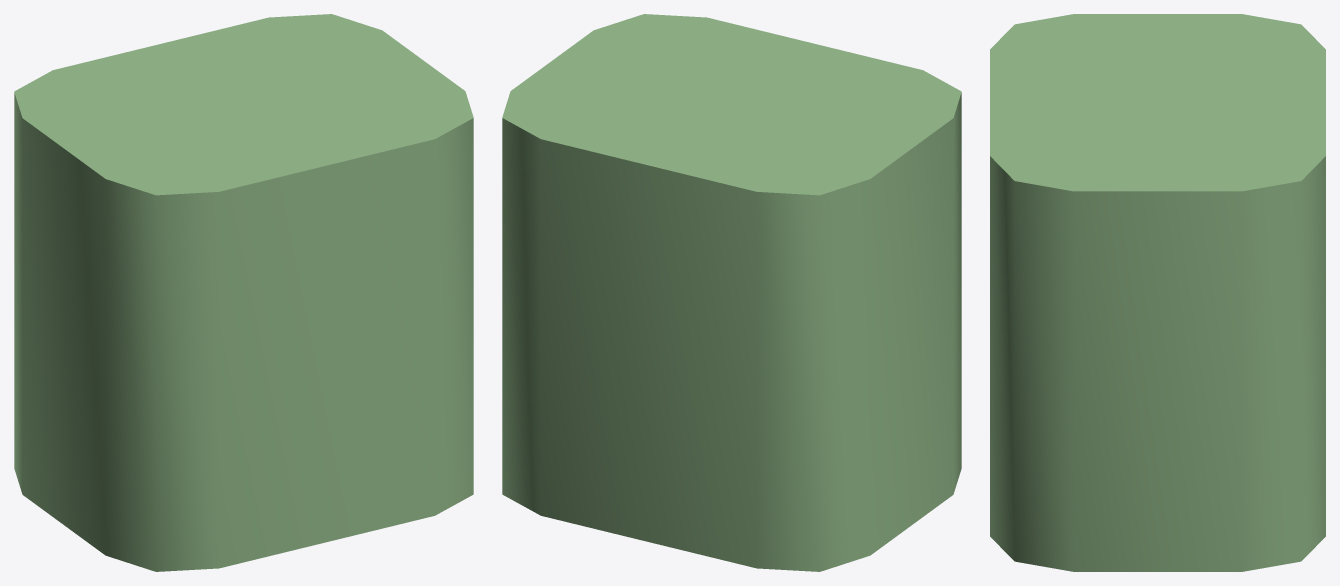
The model's file is hedge-span.glb.
3 views of the same model, side by side, from view 1: azimuth 30°, elevation 25°; view 2: azimuth 150°, elevation 25°; view 3: azimuth 270°, elevation 25° (orthographic).
Visible parts, largest first — view 1: hedge-span; view 2: hedge-span; view 3: hedge-span.
Boxes of the visible parts, box(x1,y1,x2,y2) form: hedge-span: box(14, 14, 473, 571); hedge-span: box(502, 14, 961, 571); hedge-span: box(990, 14, 1325, 571).
Size of the model in its own units: 1 by 1 by 0.8.
